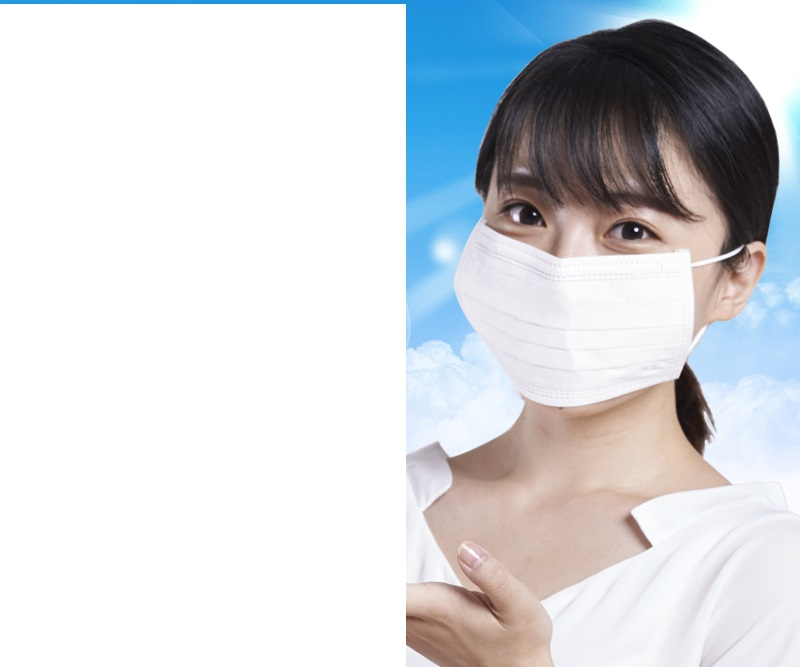face_mask: (475, 107, 701, 411)
